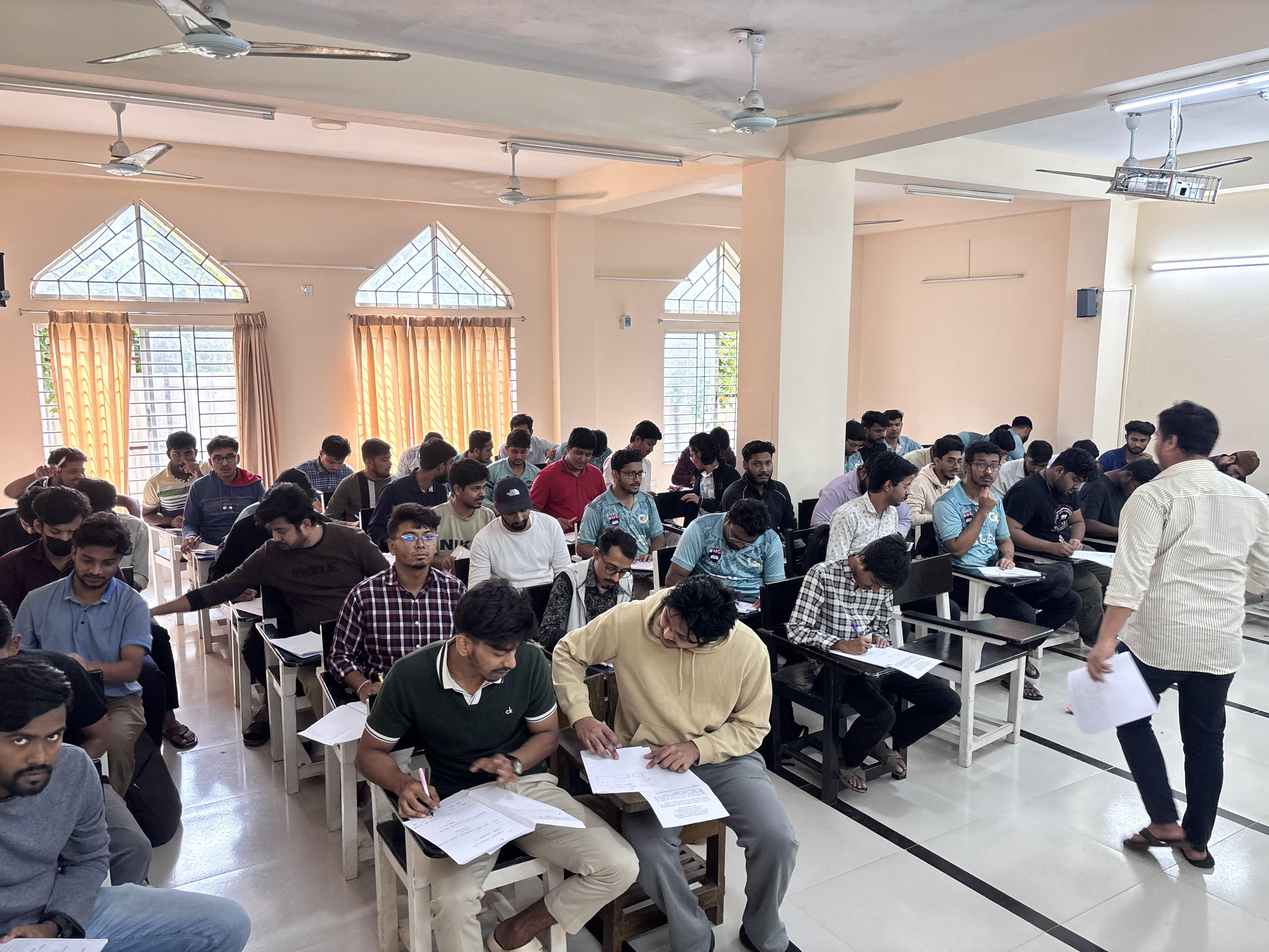copying: (365, 573, 593, 897), (567, 565, 787, 867), (847, 450, 932, 545), (677, 428, 729, 508), (411, 431, 458, 499), (354, 441, 398, 491)
exchanging_sheets: (181, 486, 379, 658)
hidden_communication: (447, 463, 489, 532), (462, 425, 501, 472), (1008, 415, 1038, 448)
no_cheating: (1109, 395, 1265, 811), (0, 660, 156, 944), (807, 538, 927, 710), (49, 521, 148, 677), (364, 504, 448, 650), (685, 499, 788, 592), (947, 441, 1015, 581), (1021, 452, 1103, 556), (186, 431, 257, 551), (480, 482, 554, 597), (567, 530, 642, 622), (25, 485, 85, 564), (600, 445, 655, 527), (154, 423, 203, 515), (554, 428, 612, 502), (921, 433, 967, 501), (304, 430, 352, 495), (617, 418, 666, 466), (495, 434, 536, 482), (856, 410, 891, 458), (1119, 420, 1157, 464), (1220, 452, 1261, 485), (840, 419, 869, 465), (883, 403, 911, 446)
side_talking: (46, 444, 88, 488)
